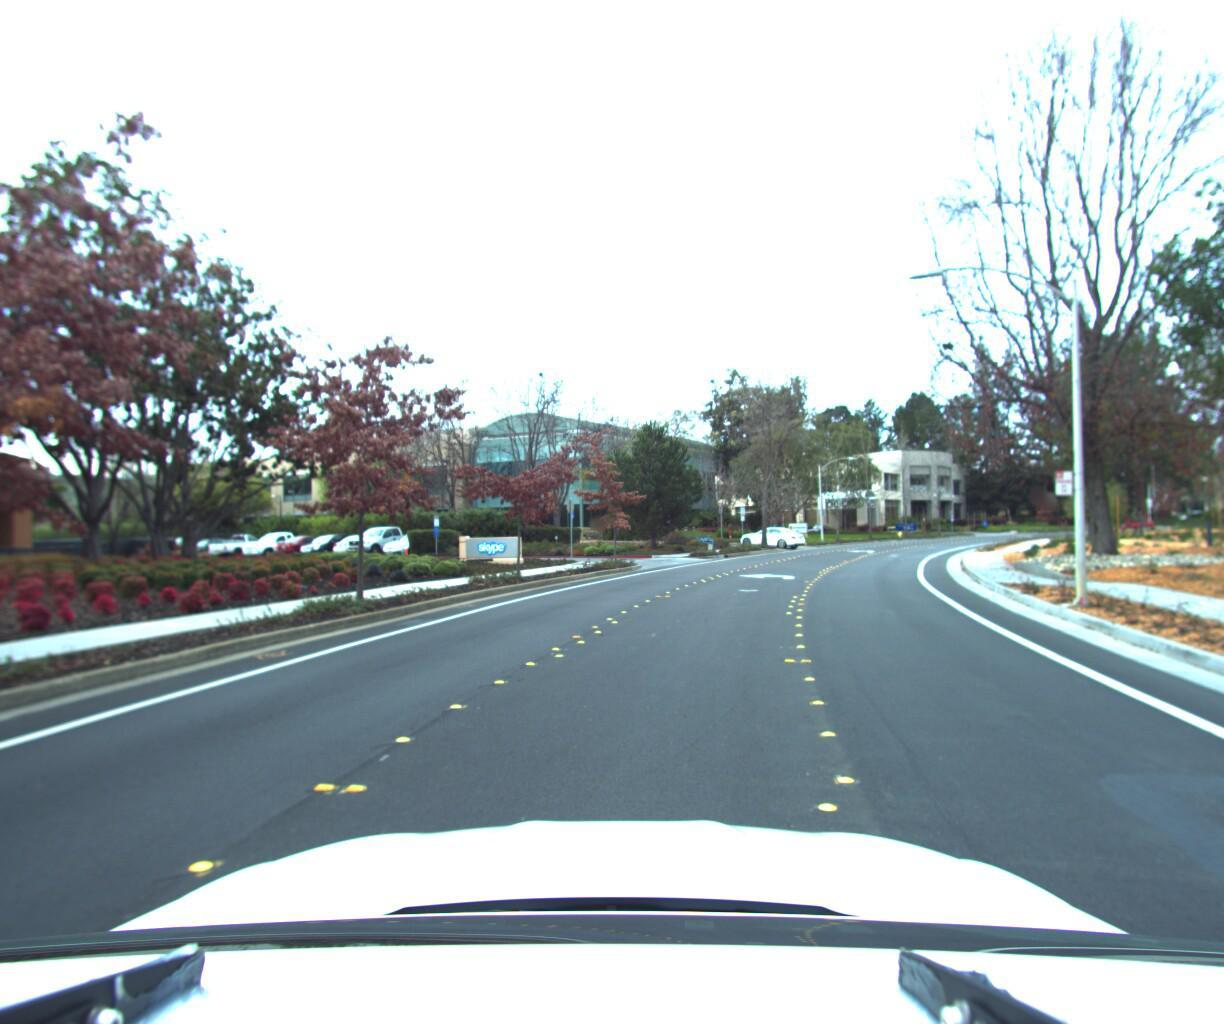car: (738, 520, 808, 546)
